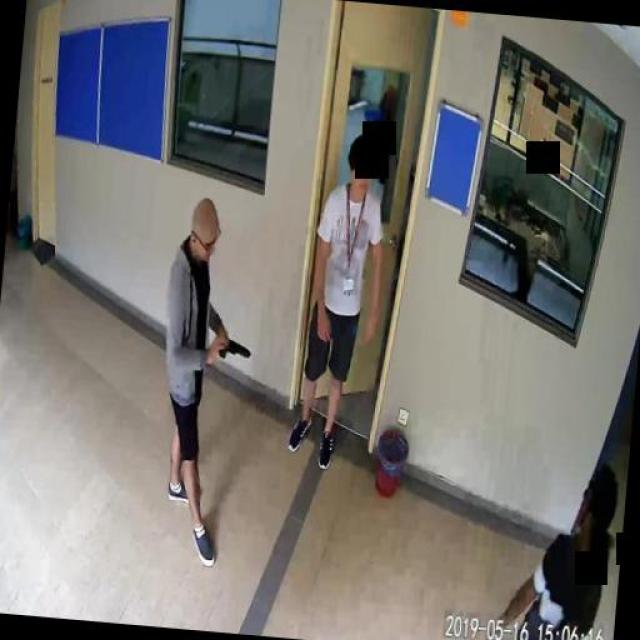gun: (215, 330, 251, 362)
